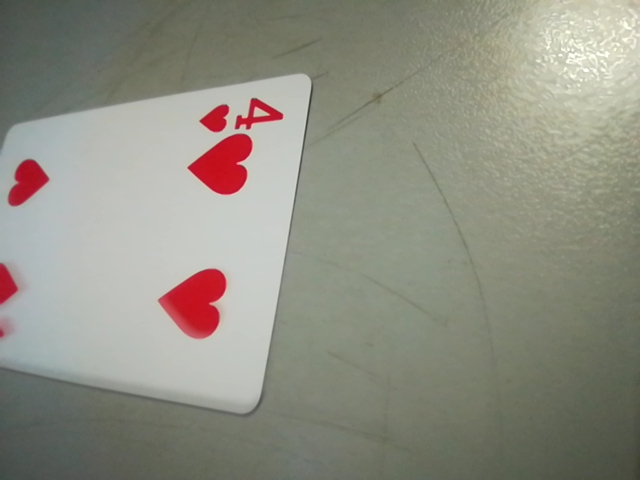hx 4: (192, 93, 289, 134)
